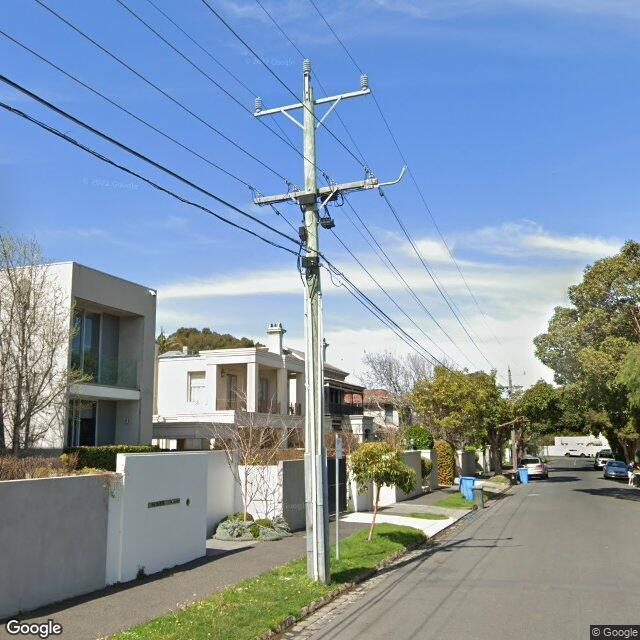HV-transmission: (254, 58, 371, 116)
crossarm: (246, 166, 386, 216), (254, 90, 372, 116), (498, 384, 524, 389)
timber-pole: (301, 76, 331, 586), (509, 373, 517, 470)
